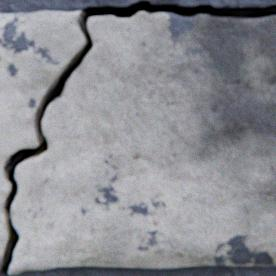broken_brick: (10, 12, 275, 273), (0, 10, 86, 269)
crack: (0, 0, 275, 275)
